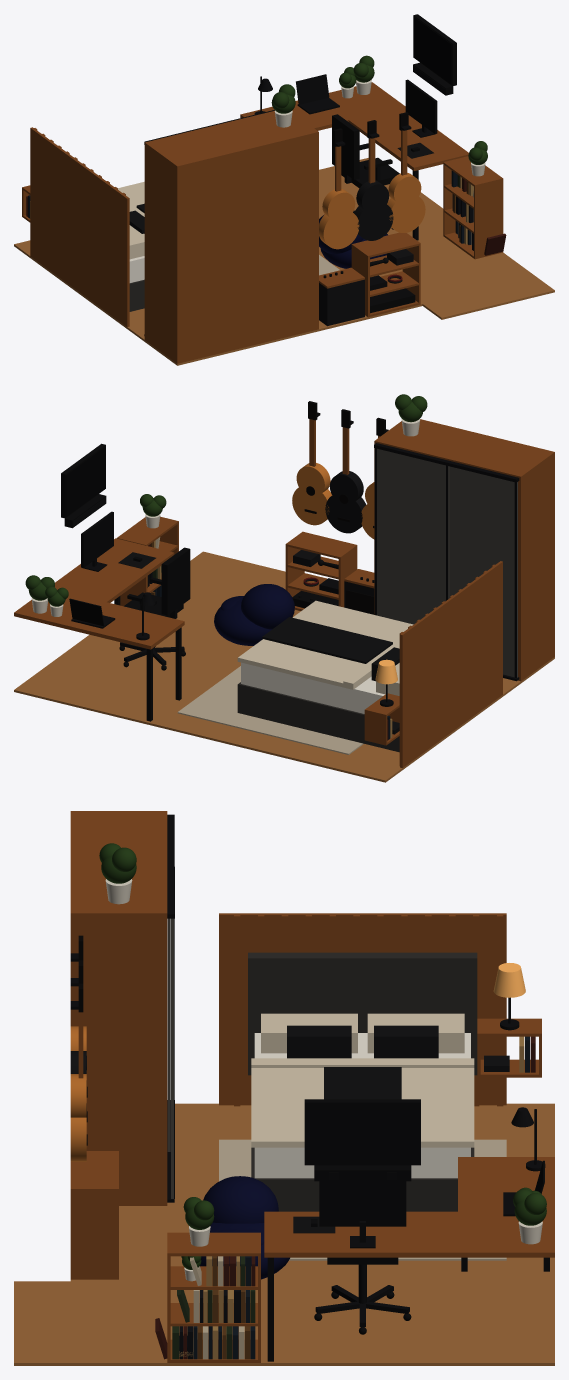
Rendered from dormitorio2-layoutC.obj.
3 renders of one model, top to bottom at view 1: azimuth 30°, elevation 25°; view 2: azimuth 150°, elevation 25°; view 3: azimuth 270°, elevation 25°, orthographic. The views are drawn at different scales.
Visible parts, largest first — view 1: guarda_roupa_estrutura, painel_cabeceira, piso, mesa_tampo_parede, piso_porta, mesa_tampo_janela, estante_lateral_2, amp_caixa, tv_tela, violao_1_bojo_inferior, cadeira_encosto, monitor_tela (+21 smaller); view 2: piso, painel_cabeceira, guarda_roupa_estrutura, porta_correr_frontal, porta_correr_traseira, edredom, cama_base, tapete, mesa_tampo_janela, mesa_tampo_parede, colchao, manta_central (+25 smaller); view 3: piso, guarda_roupa_estrutura, cabeceira_estofada, painel_cabeceira, edredom, mesa_tampo_janela, tv_moldura, mesa_tampo_parede, piso_porta, equip_lateral_2, colchao, monitor_tela (+26 smaller).
Boxes of the visible parts, x1,y1,x2,y2 form: guarda_roupa_estrutura: [144, 110, 318, 363]; painel_cabeceira: [30, 127, 129, 326]; piso: [14, 158, 535, 365]; mesa_tampo_parede: [348, 106, 468, 170]; piso_porta: [422, 276, 554, 319]; mesa_tampo_janela: [240, 82, 404, 130]; estante_lateral_2: [474, 177, 503, 259]; amp_caixa: [319, 279, 364, 326]; tv_tela: [413, 17, 451, 84]; violao_1_bojo_inferior: [319, 211, 359, 249]; cadeira_encosto: [332, 114, 359, 179]; monitor_tela: [405, 79, 437, 133]; piso: [14, 567, 554, 782]; painel_cabeceira: [400, 561, 502, 767]; guarda_roupa_estrutura: [374, 419, 554, 681]; porta_correr_frontal: [377, 448, 449, 624]; porta_correr_traseira: [449, 466, 517, 677]; edredom: [237, 600, 413, 689]; cama_base: [237, 682, 399, 752]; tapete: [177, 666, 363, 754]; mesa_tampo_janela: [14, 593, 184, 649]; mesa_tampo_parede: [55, 538, 174, 602]; colchao: [241, 662, 385, 713]; manta_central: [262, 617, 392, 663]; piso: [70, 1103, 554, 1365]; guarda_roupa_estrutura: [70, 811, 167, 1205]; cabeceira_estofada: [248, 952, 477, 1075]; painel_cabeceira: [219, 913, 506, 1105]; edredom: [251, 1068, 474, 1147]; mesa_tampo_janela: [458, 1157, 554, 1257]; tv_moldura: [304, 1099, 420, 1165]; mesa_tampo_parede: [264, 1211, 457, 1257]; piso_porta: [14, 1281, 70, 1365]; equip_lateral_2: [70, 1187, 118, 1279]; colchao: [254, 1033, 470, 1178]; monitor_tela: [319, 1181, 406, 1226].
Size of the model in its own units: 3.8 by 2.39 by 3.35.
